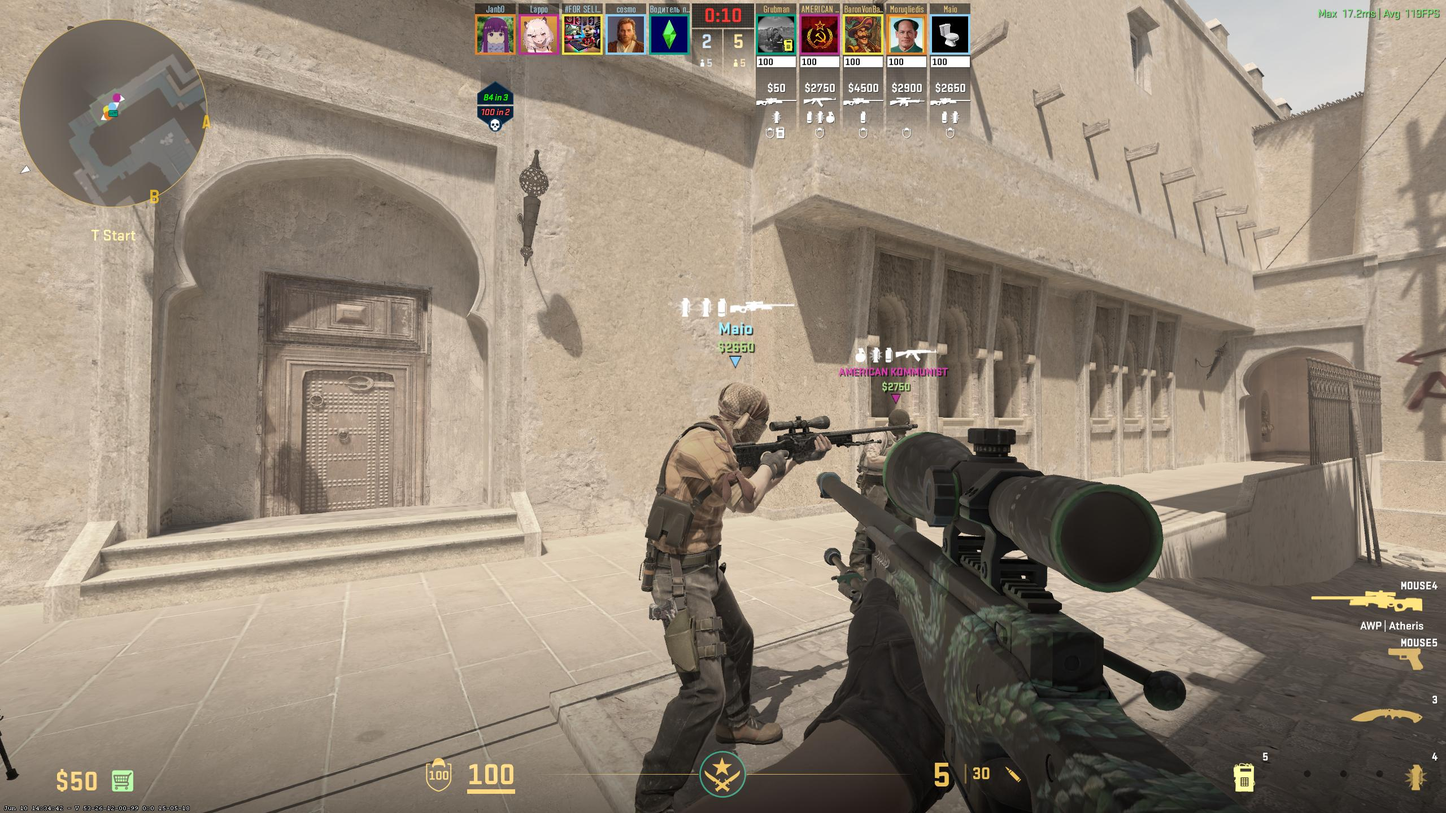Terrorist: (646, 391, 799, 813), (863, 422, 929, 578)
